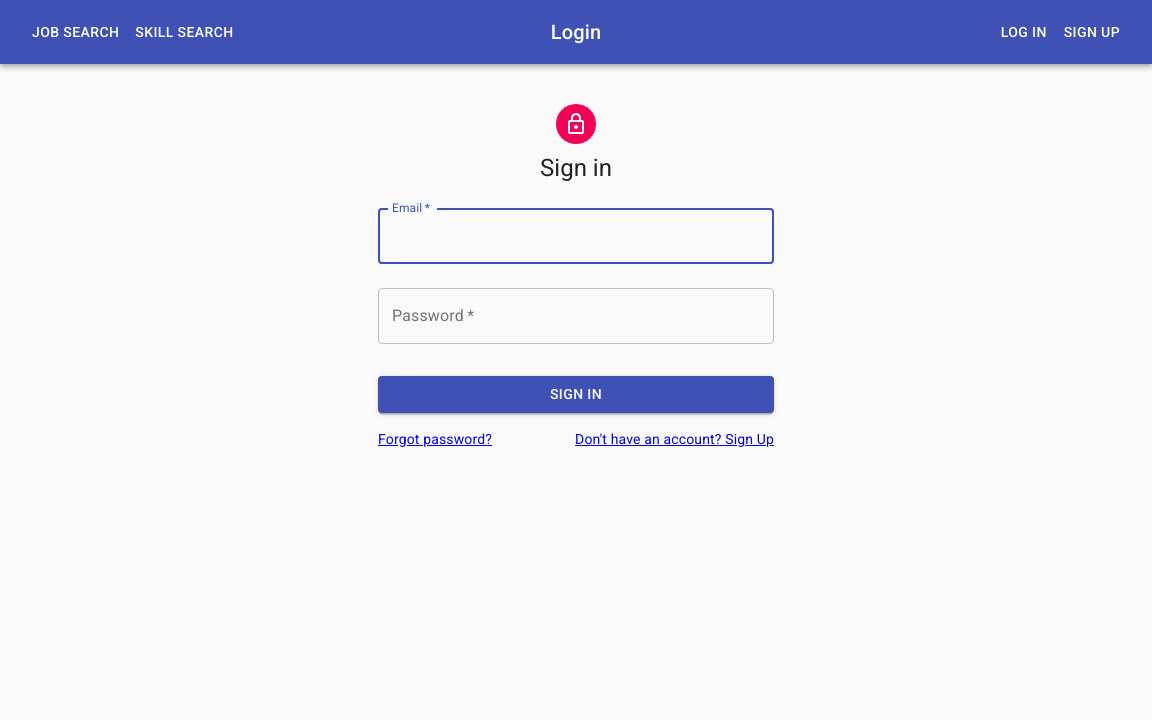
Test: Job Search › Retrieve Profile Skills 401- FAILURE
The width and height of the screenshot is (1152, 720).
Type "email@email.com" into the field with id "email" at (576, 236), box [378,208,774,264]
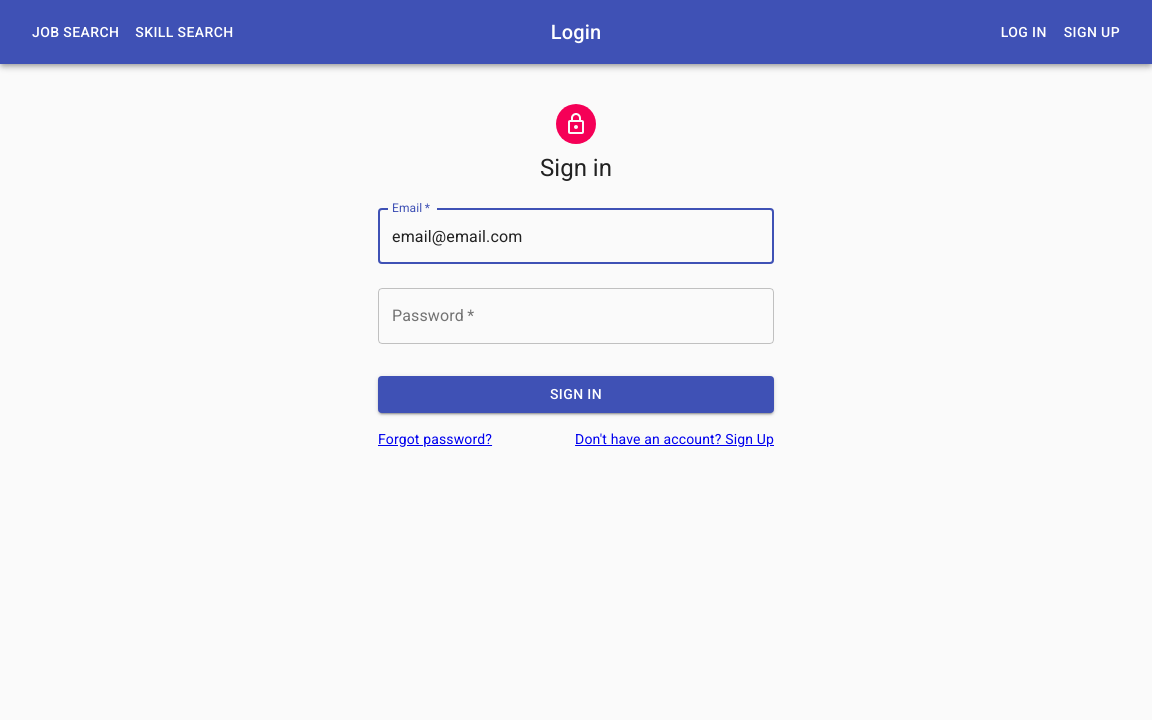
Type "password" into the password field labelled "Password *" at (576, 316), box [378,288,774,344]
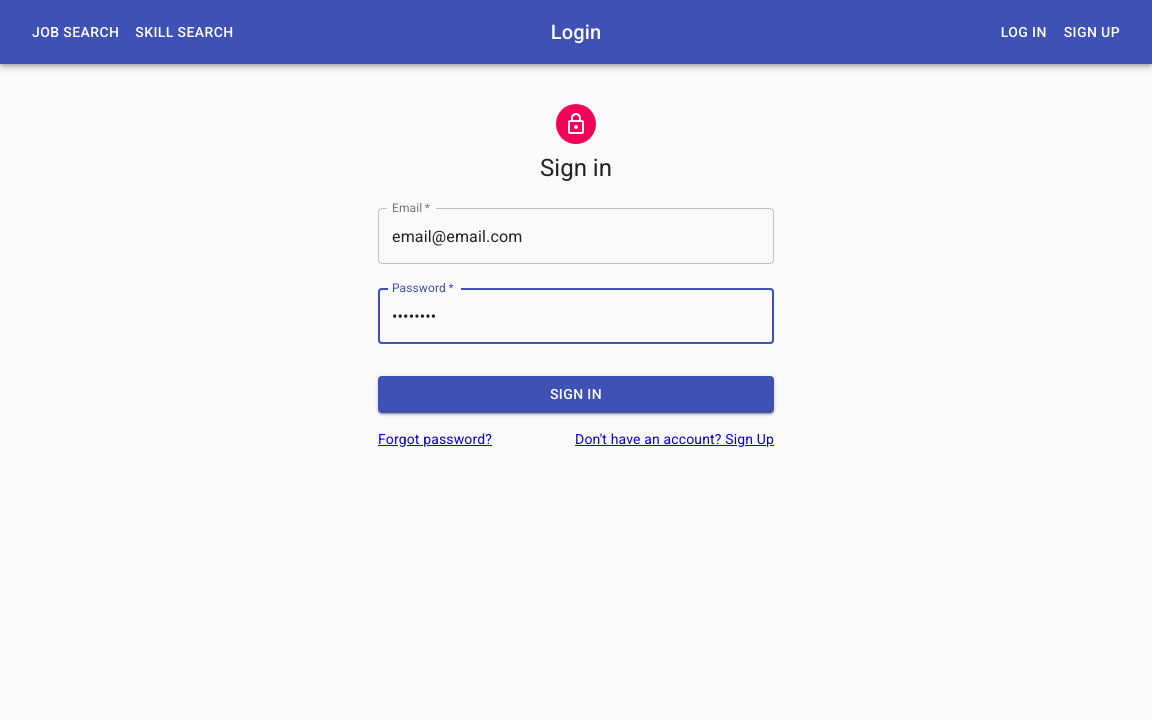
Click the button with id "submit" at (576, 395), box [378,376,774,413]
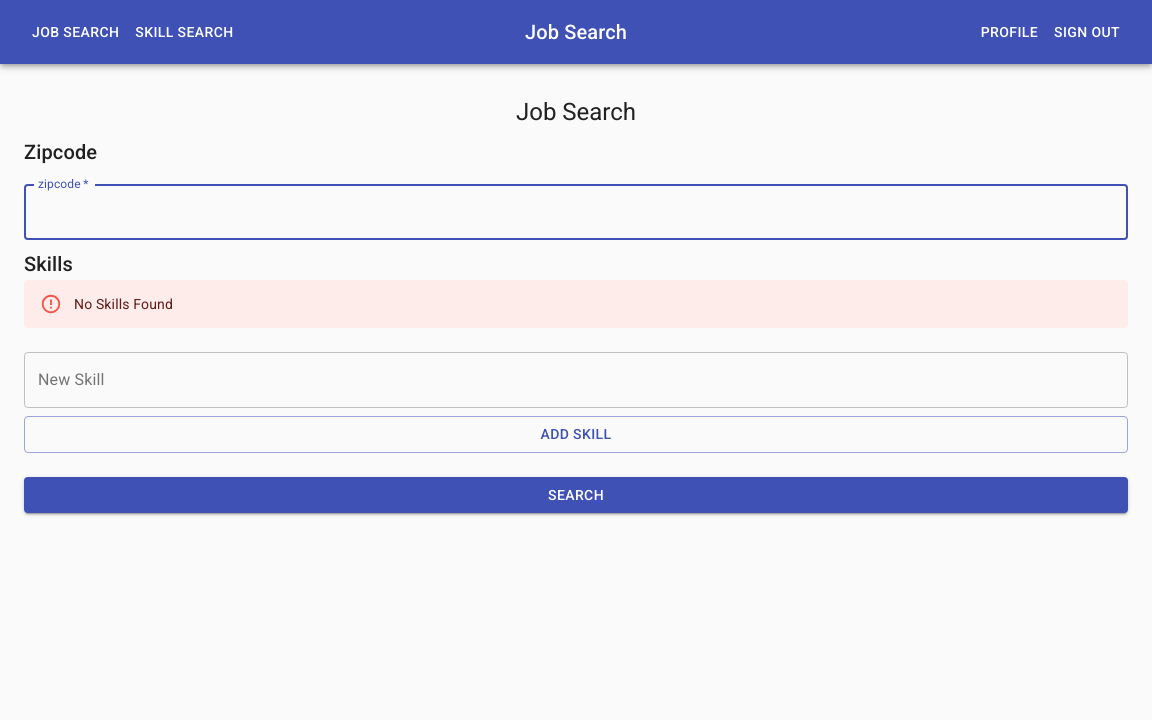
Expected: the element with id "skillInput" does not hold "dev"
Expected: the heading with id "navBarTitle" reads "Job Search", [525,20,627,44]
